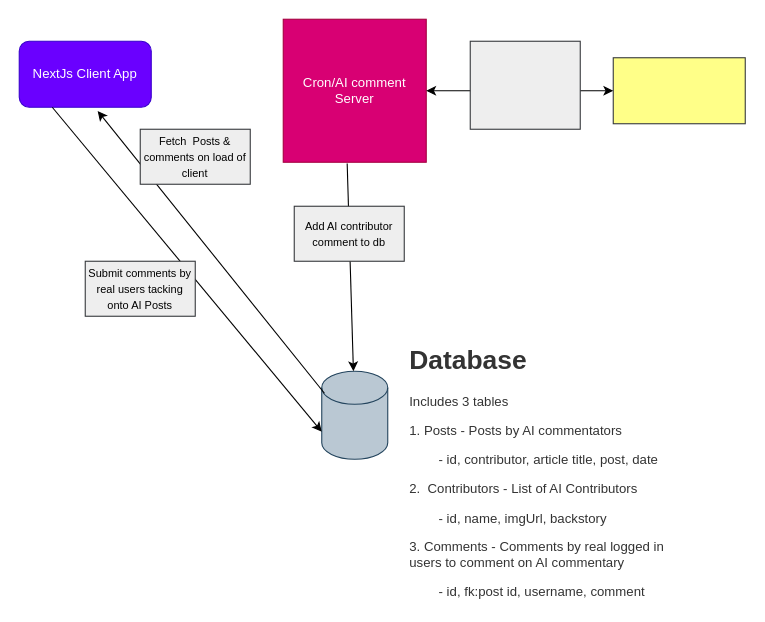
The diagram is 765 pixels wide and 622 high, and some of its shapes have lost their labels. The box of each missing label's shape, as (x1, y1, x2, y2) in pixels:
MySQL Database: (321, 370, 388, 459)
Open AI API: (612, 57, 745, 124)
Send prompt to OpenAI on cron job to receive commentart response: (469, 40, 580, 129)
